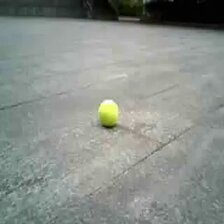tennis: (97, 99, 118, 126)
